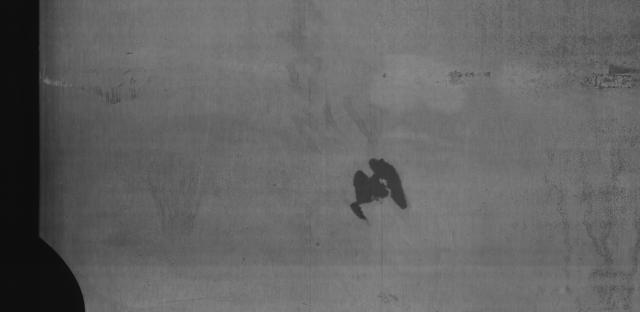crescent_gap: (36, 209, 101, 312)
oil_spot: (343, 153, 415, 221)
rolled_pit: (42, 60, 152, 115)
